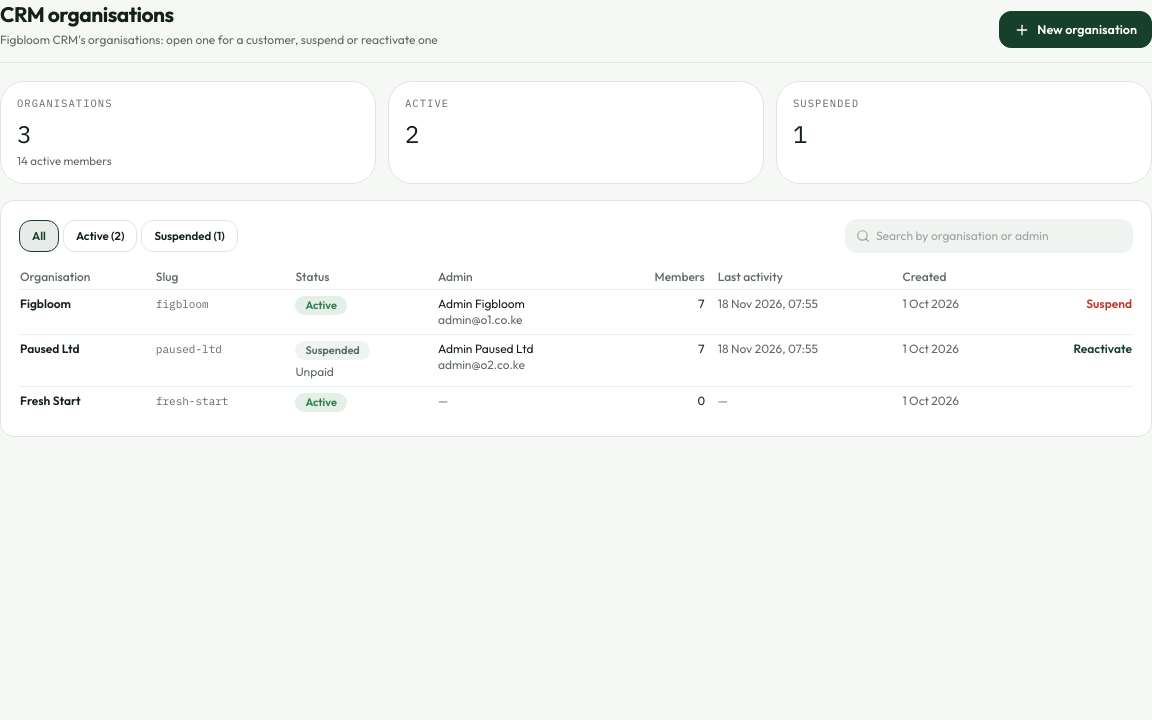
Scenario: the CRM organisations page › opens an organisation's details with its counts, refreshed from CRM
Click the button "Figbloom" at point(46, 304), box x1=20 y1=296 x2=71 y2=312
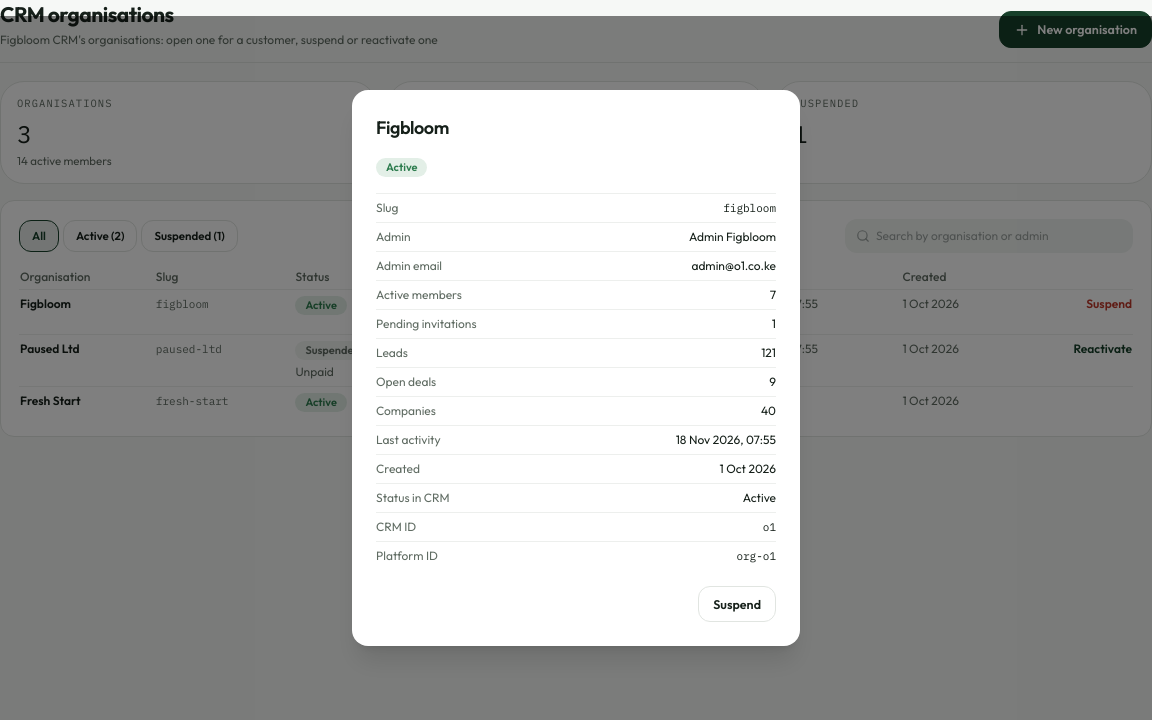
Result: the text "Pending invitations" is shown at x1=376 y1=316 x2=476 y2=332
Result: the text "Open deals" is shown at x1=376 y1=374 x2=436 y2=390
Result: the text "40" is shown at x1=761 y1=403 x2=776 y2=419
